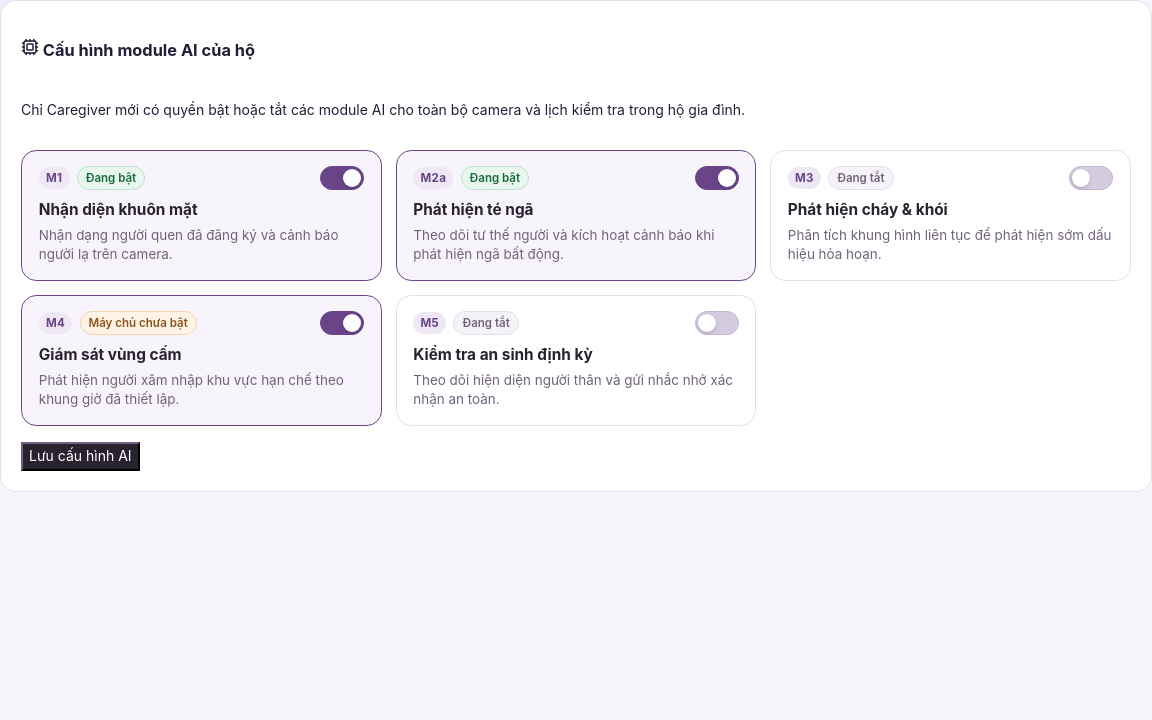
Test: AiModulesSettings › toggles modules and saves updated configuration
Click the switch named "m3Fire" at (1091, 178), box x1=1069 y1=166 x2=1113 y2=190
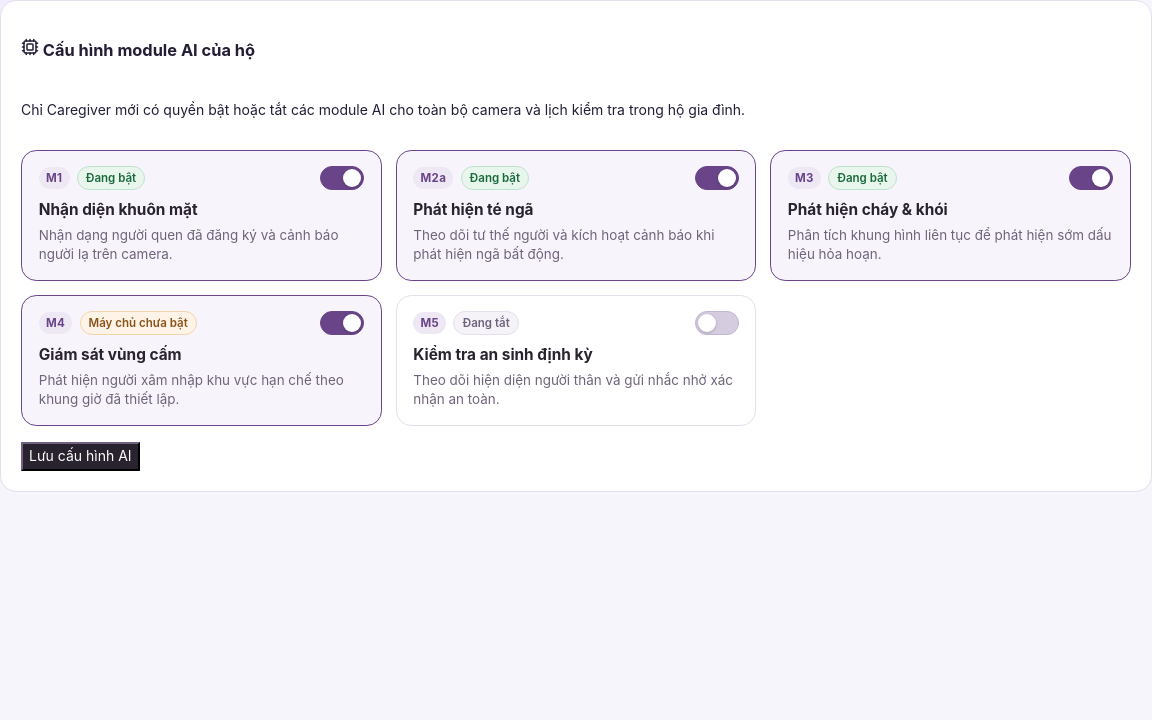
Click the switch named "m5Wellness" at (717, 323), box x1=695 y1=311 x2=739 y2=335
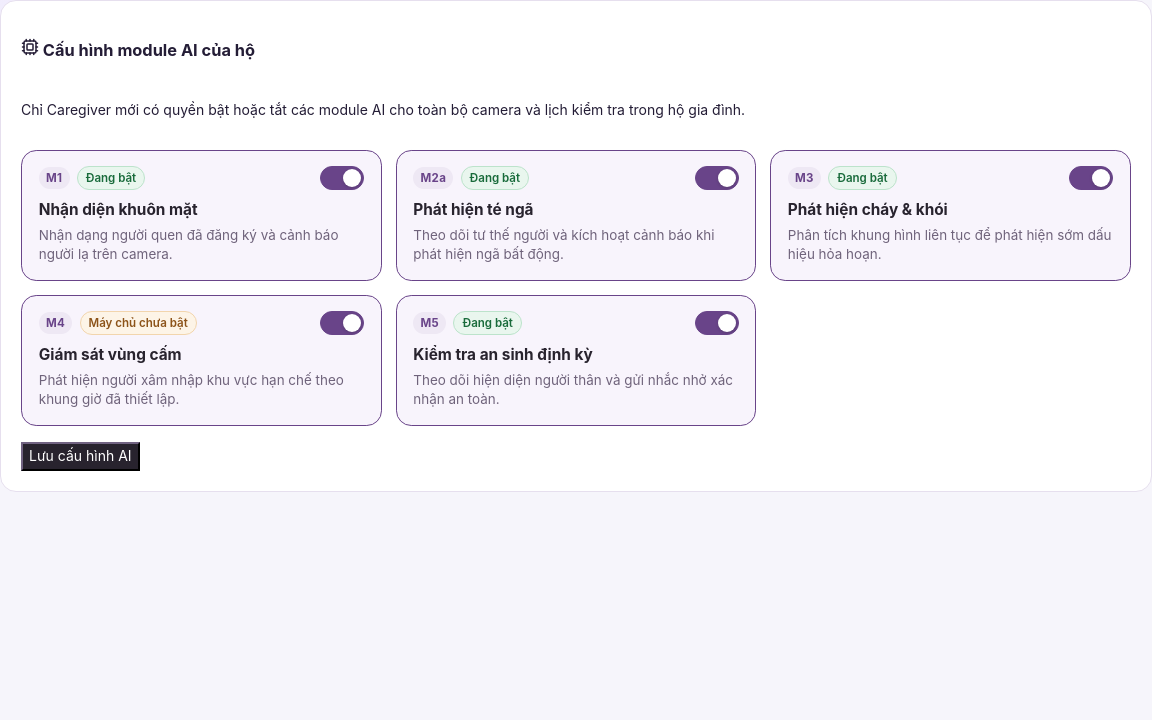
Check: the submit button is enabled, box x1=21 y1=442 x2=140 y2=470
Submit the form, box x1=21 y1=150 x2=1131 y2=470
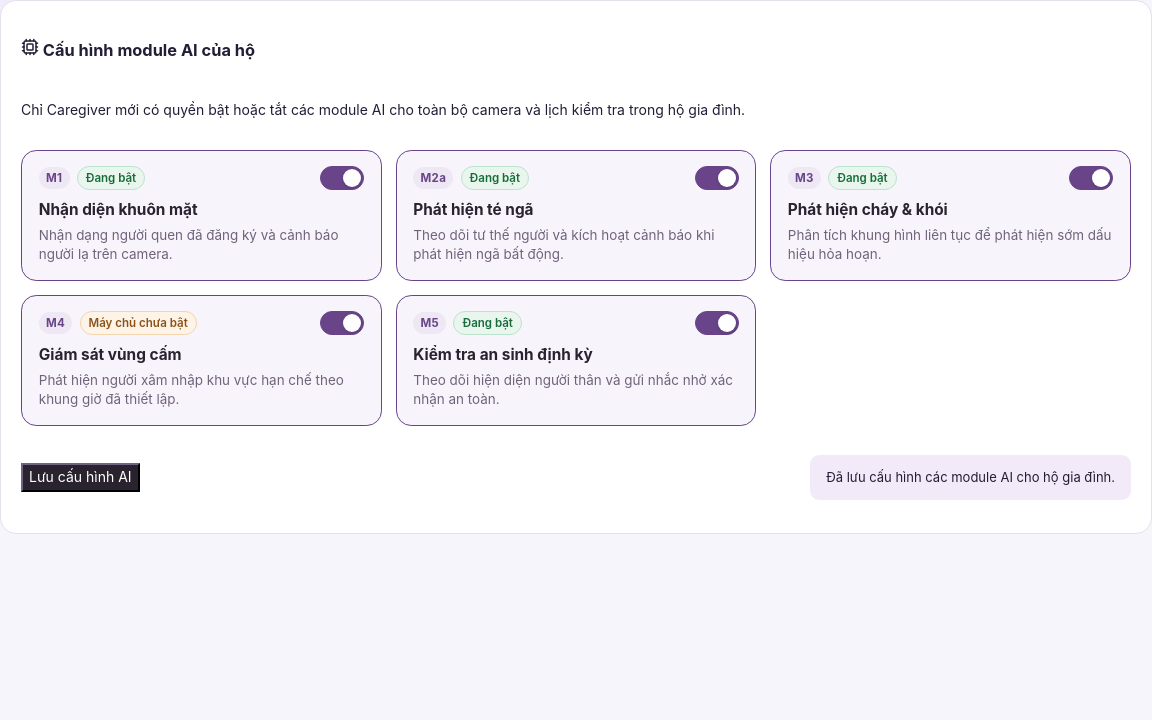
Check: the message "Đã lưu cấu hình các module AI cho hộ gia đình." is shown, box x1=810 y1=455 x2=1131 y2=500
Check: the submit button is disabled, box x1=21 y1=463 x2=140 y2=492
